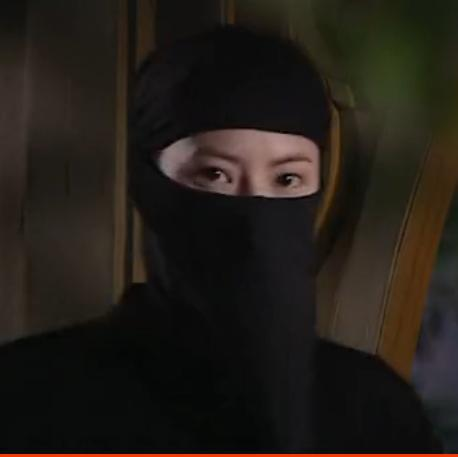OK: (181, 142, 313, 274)
